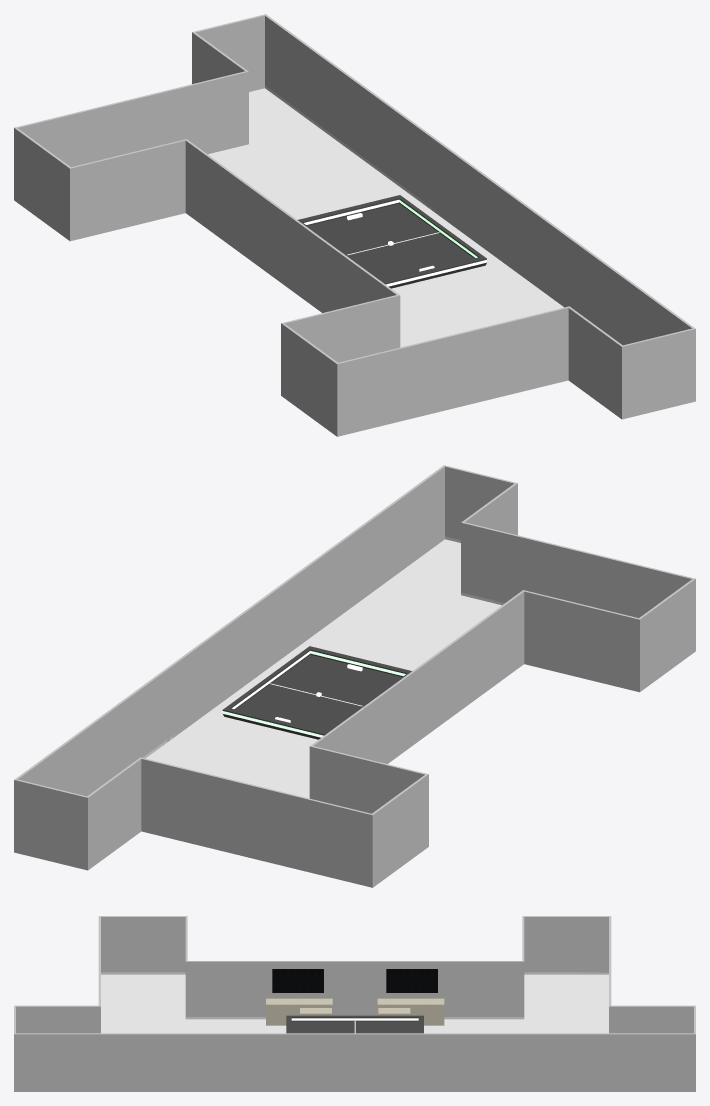
3 views of the same model, one above another, from view 1: azimuth 30°, elevation 25°; view 2: azimuth 150°, elevation 25°; view 3: azimuth 270°, elevation 25° (orthographic). The views are drawn at different scales.
Visible parts, largest first — view 1: Room, Floor, Plane; view 2: Room, Floor, Plane; view 3: Room, Floor, Mjora, Plane, TV, Baseboard.
Part boxes in pixels (x1,y1,x2,y2): Room: (14, 14, 695, 436); Floor: (208, 88, 563, 347); Plane: (298, 195, 486, 288); Room: (14, 465, 695, 887); Floor: (146, 539, 501, 798); Plane: (222, 646, 411, 739); Room: (14, 916, 695, 1091); Floor: (101, 974, 608, 1033); Mjora: (266, 998, 444, 1025); Plane: (286, 1015, 423, 1033); TV: (272, 969, 437, 992); Baseboard: (101, 972, 608, 1019).
Bounding box in the file's own units: 21.99 × 5 × 53.65.
10 materials, 3 textured.
